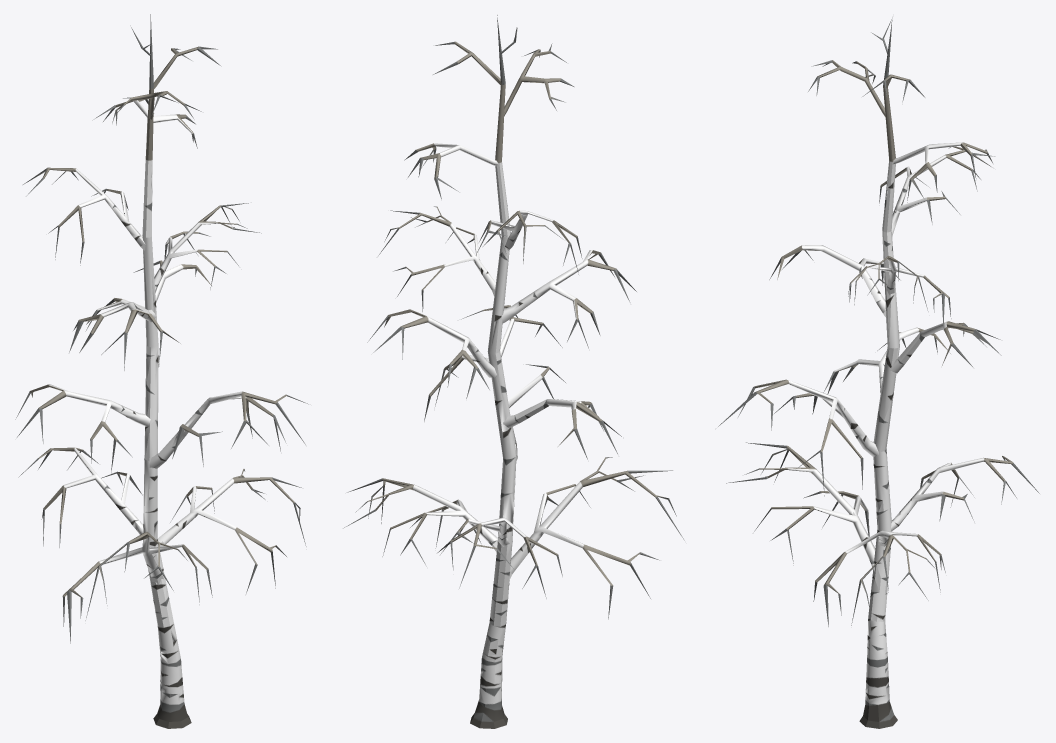
The model's file is tree.glb.
3 views of the same model, side by side, from view 1: azimuth 30°, elevation 25°; view 2: azimuth 150°, elevation 25°; view 3: azimuth 270°, elevation 25° (orthographic). The views are drawn at different scales.
Parts seen in each view (by area): view 1: Tree_Low; view 2: Tree_Low; view 3: Tree_Low.
Boxes of the visible parts, x1,y1,x2,y2 form: Tree_Low: (15,14,308,728); Tree_Low: (343,15,684,728); Tree_Low: (718,17,1039,728).
Bounding box in the file's own units: 6.91 × 16.6 × 7.07.
Materials: 1 (1 with a texture image).
